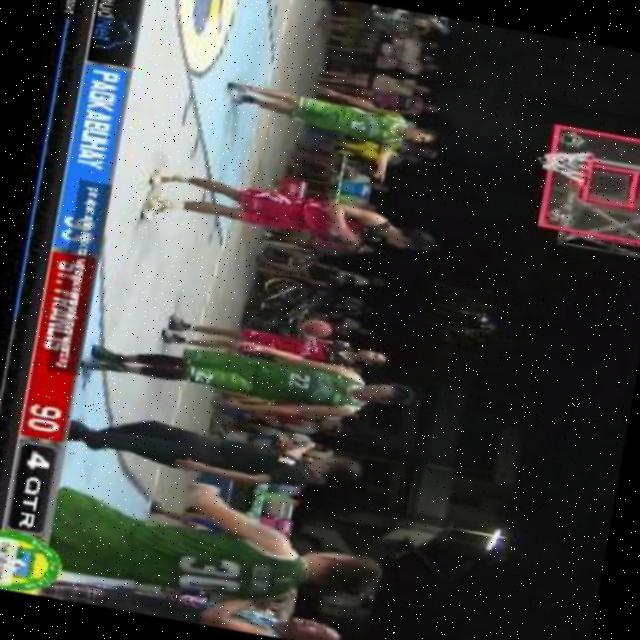ball: (291, 312, 339, 342)
hoop: (577, 148, 592, 188)
